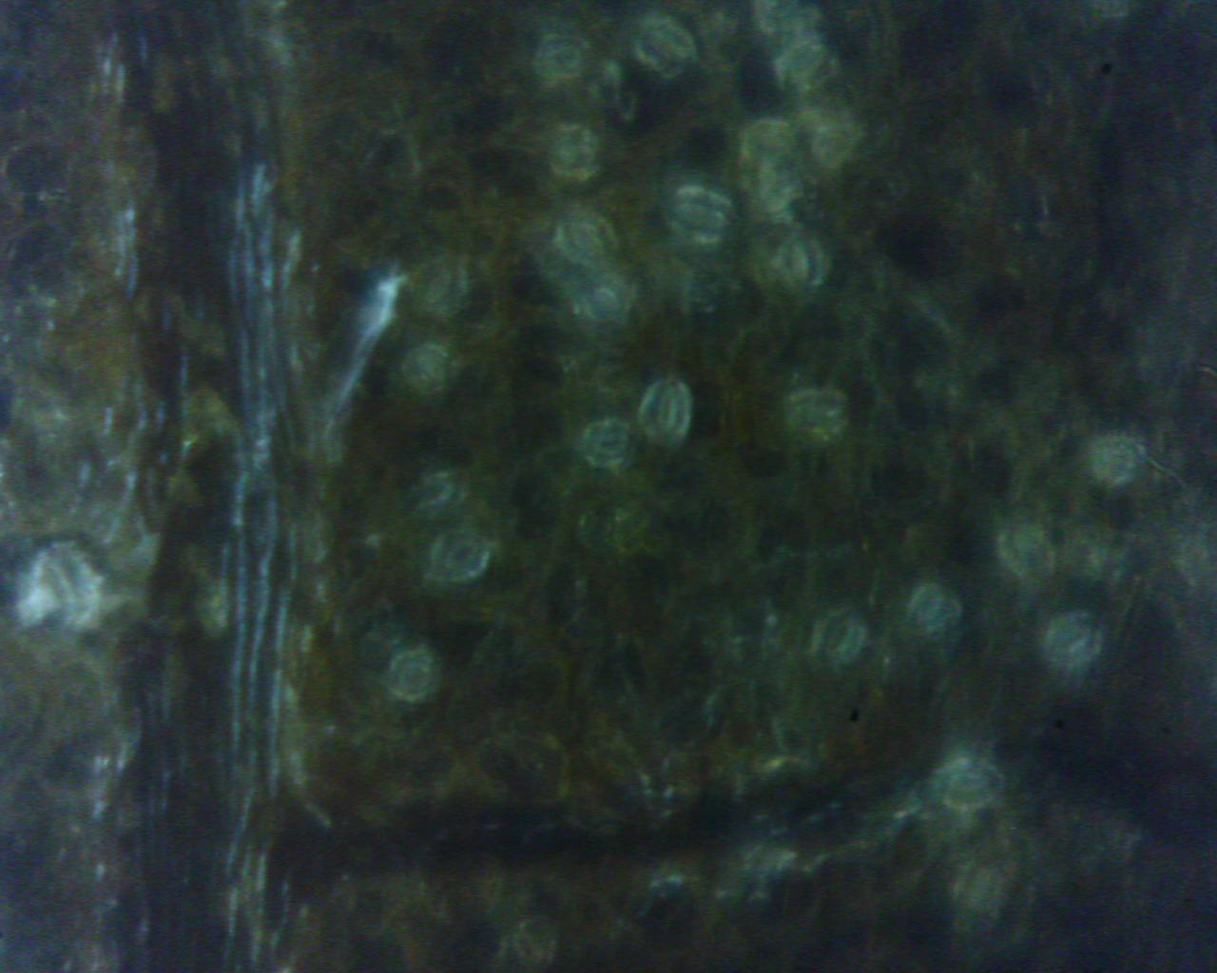stomata: (670, 192, 739, 244), (934, 759, 1001, 811), (644, 383, 691, 448), (551, 127, 599, 184), (786, 391, 847, 434), (1008, 522, 1050, 582), (778, 238, 824, 292), (820, 612, 867, 664), (579, 278, 629, 324), (585, 423, 636, 467), (419, 262, 464, 311), (436, 532, 482, 577), (961, 858, 1001, 909), (386, 656, 437, 696), (537, 40, 586, 79), (789, 47, 834, 88), (569, 219, 610, 263), (1049, 618, 1093, 658), (907, 601, 960, 634), (648, 27, 691, 67), (416, 475, 464, 510), (508, 927, 549, 965), (414, 353, 448, 391), (747, 126, 791, 153)
